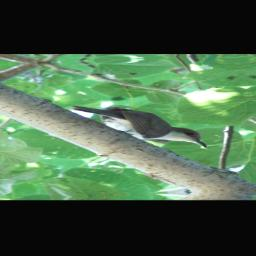Cuckoo: (67, 100, 209, 154)
